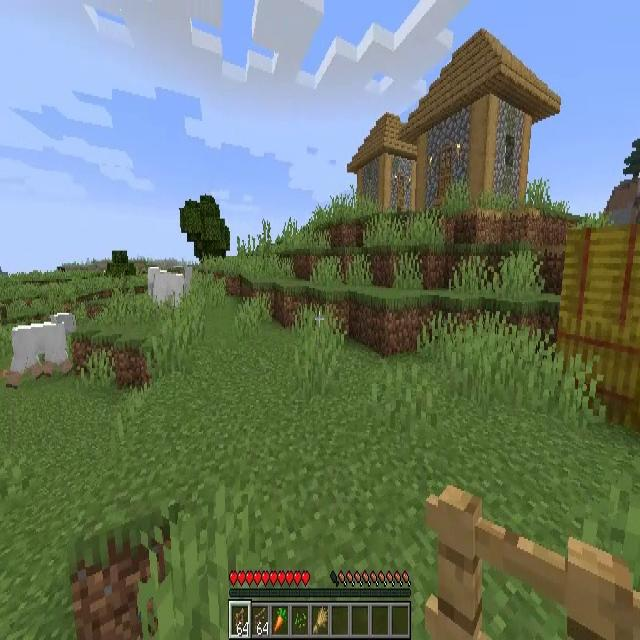sheep: (6, 313, 76, 388), (148, 267, 184, 309)
